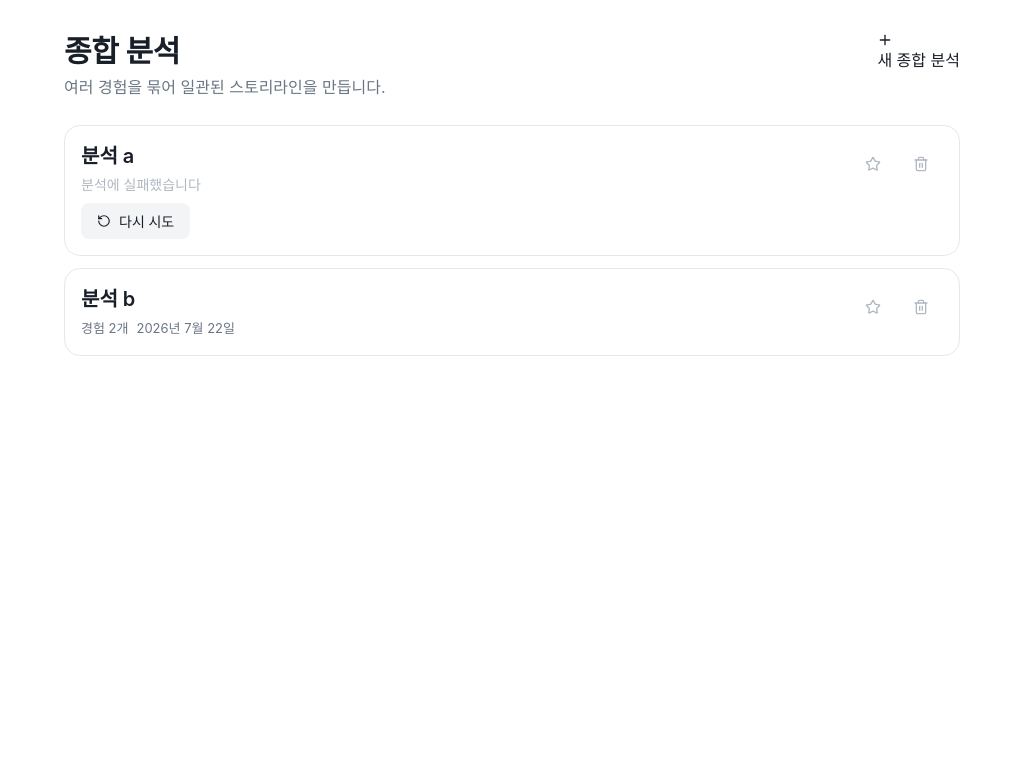
Test: 종합 분석 목록 — 재시도 폴링과 로컬 변경 (FRT-108) › 삭제한 카드가 낡은 폴링 응답으로 되살아나지 않는다
Expected: the text "분석 b" is shown, [81, 285, 135, 313]
Click the button "다시 시도" at coordinates (136, 221), box [81, 203, 190, 239]
Wait 5000 ms
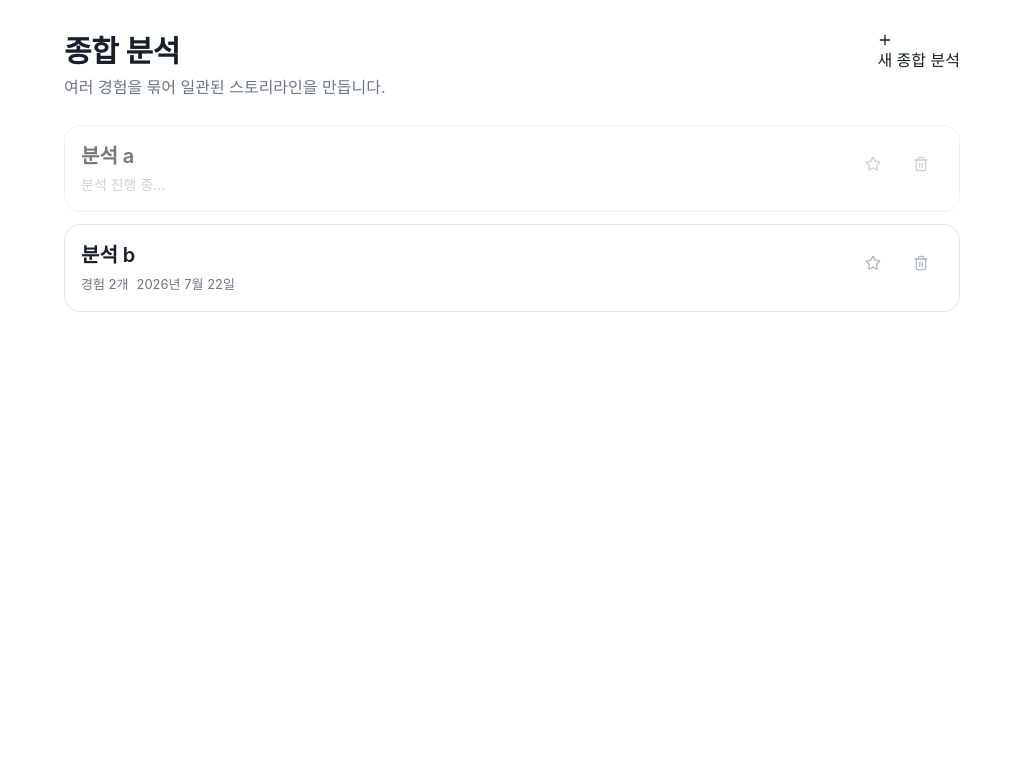
Click the button named "삭제" in the row of "2026년 7월 22일" at coordinates (921, 263), box [899, 241, 943, 285]
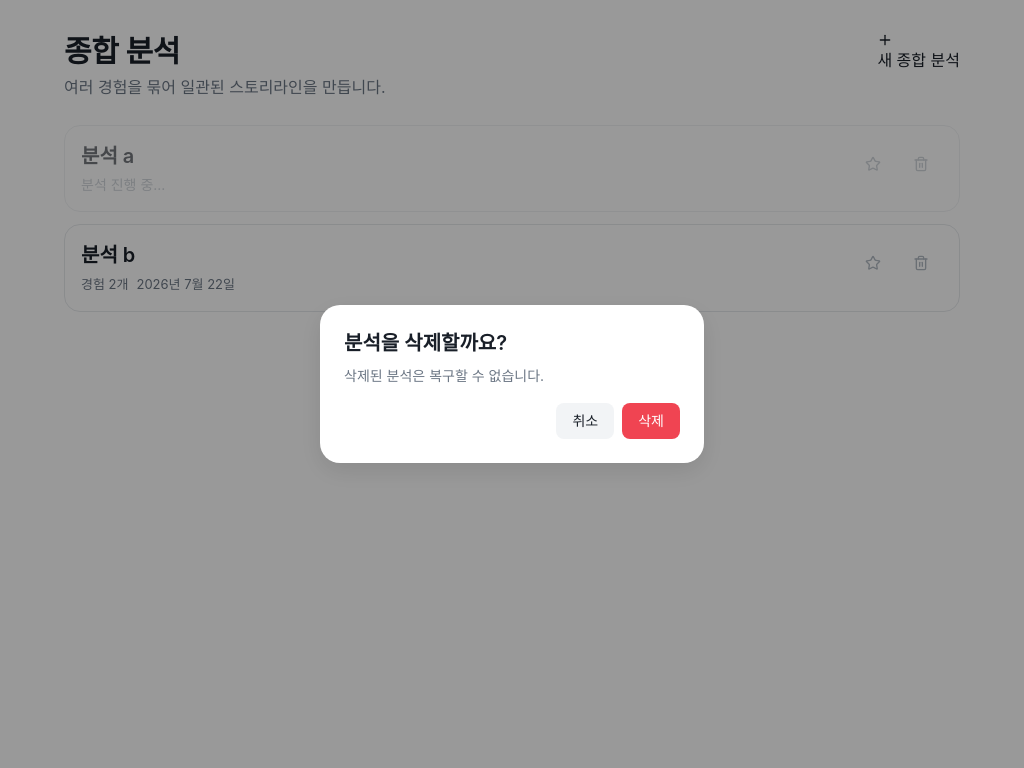
Click the button "삭제" at coordinates (651, 421), box [622, 403, 680, 439]
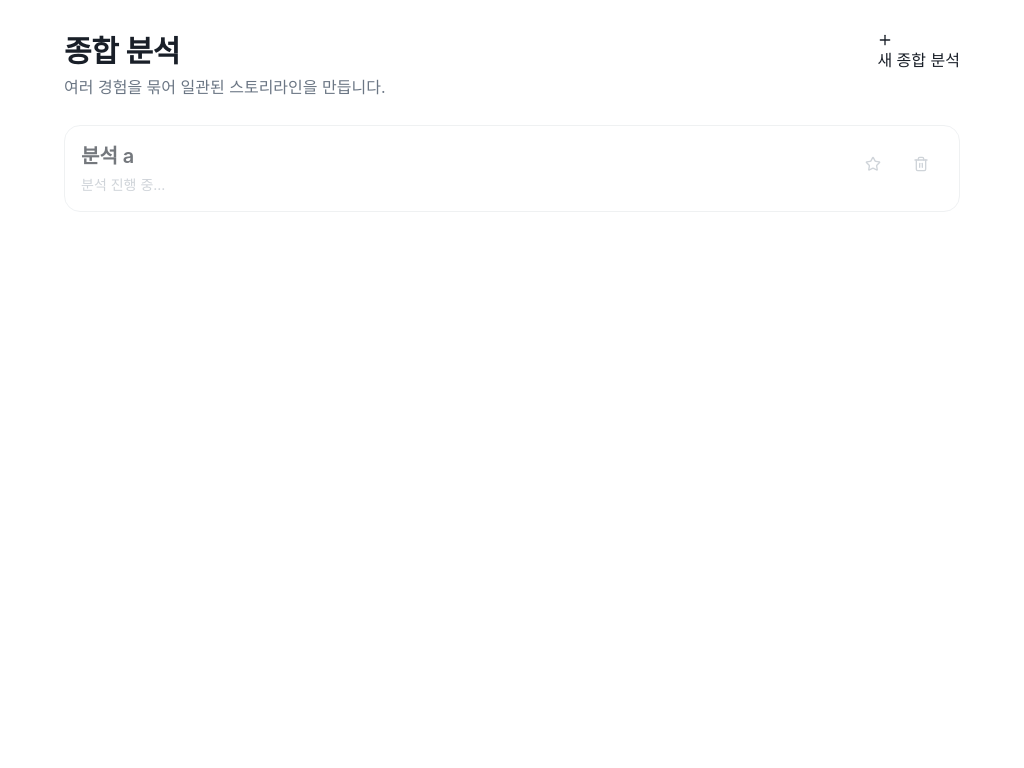
Expected: the link "분석 b" is gone
